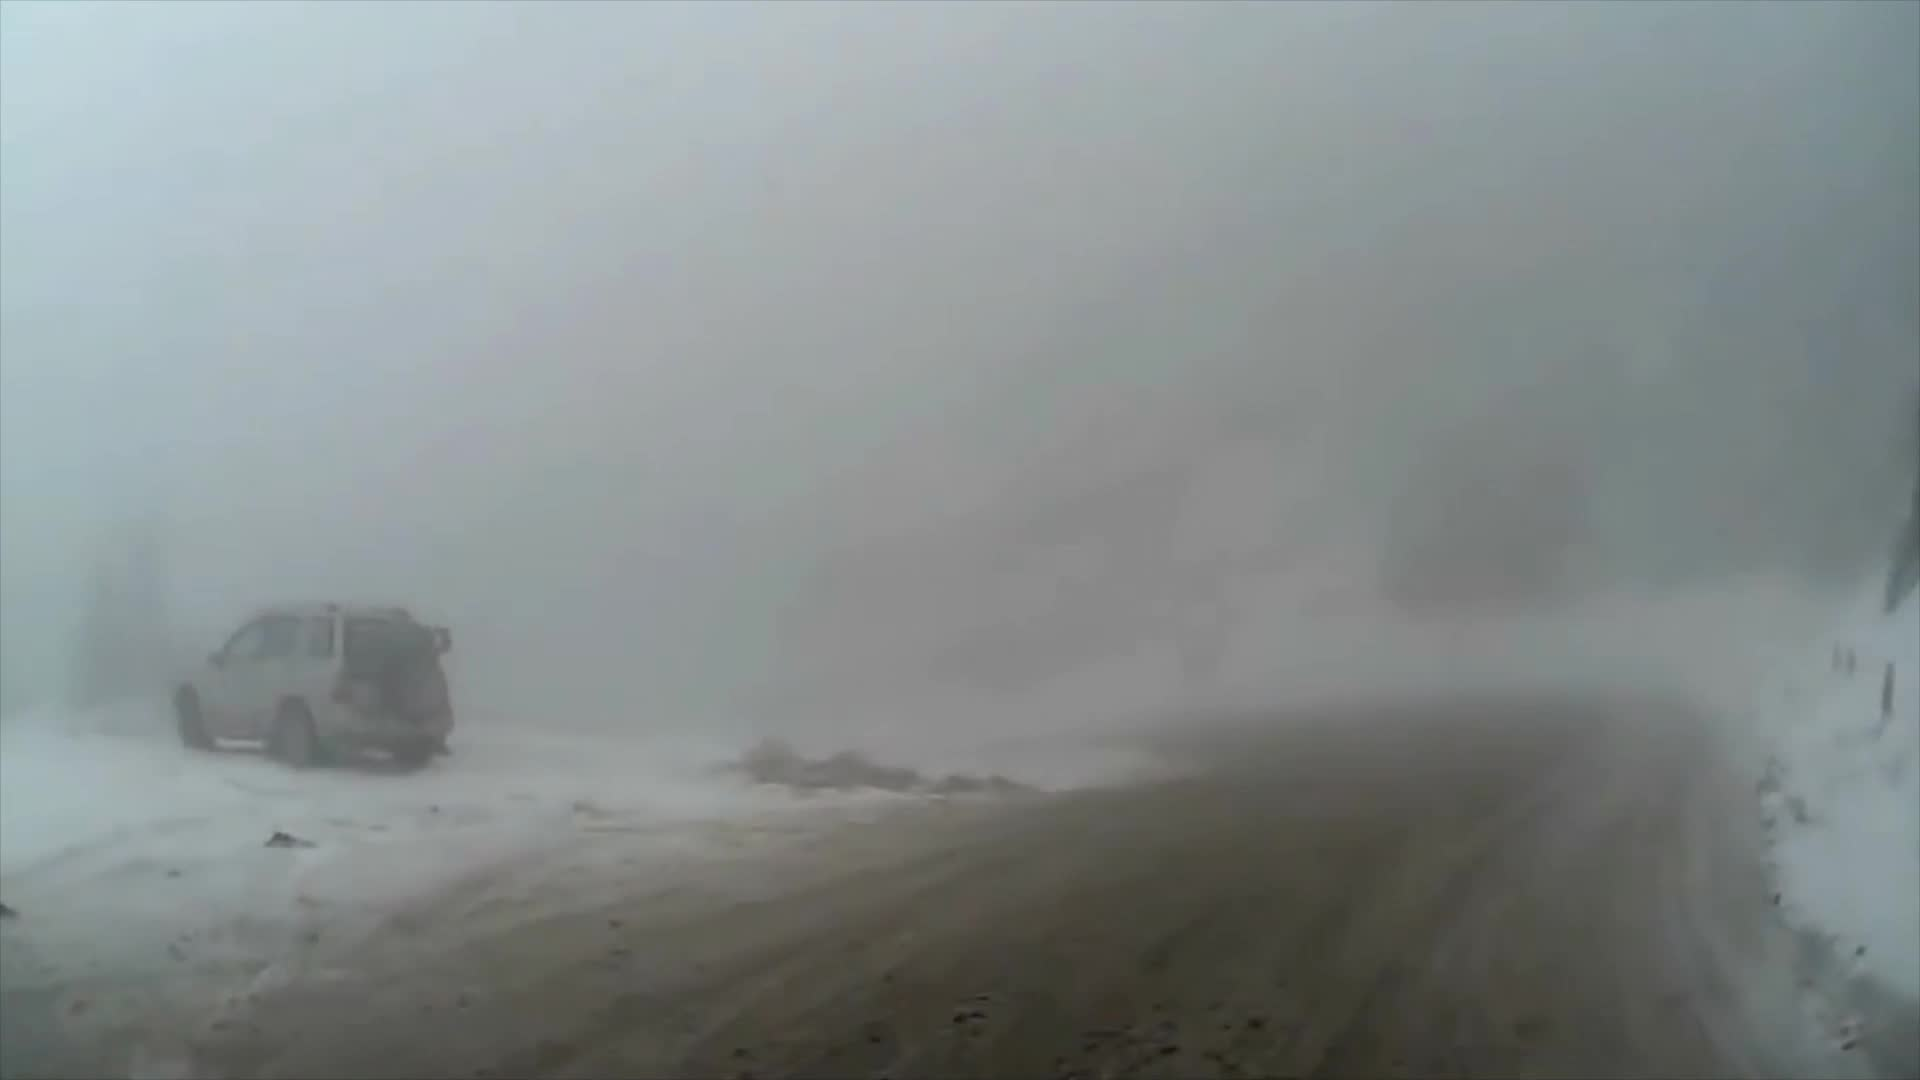vehicle: (171, 600, 452, 770)
